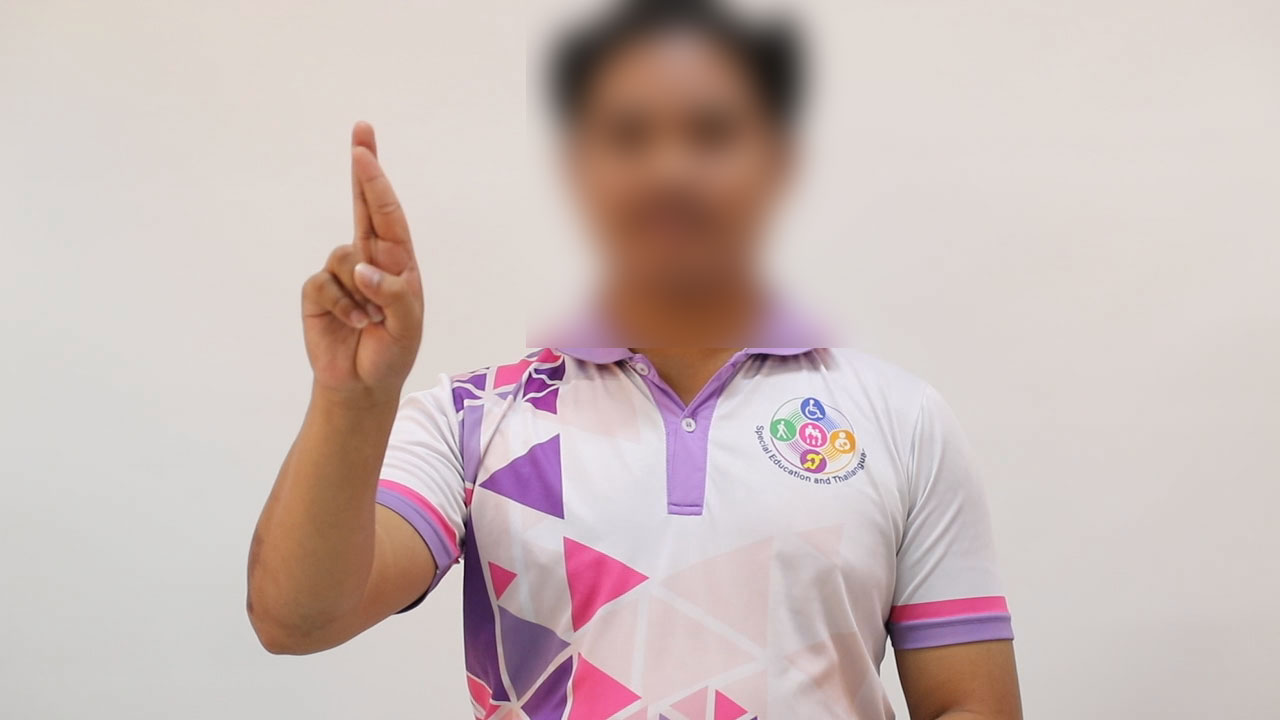rao: (276, 116, 434, 394)
